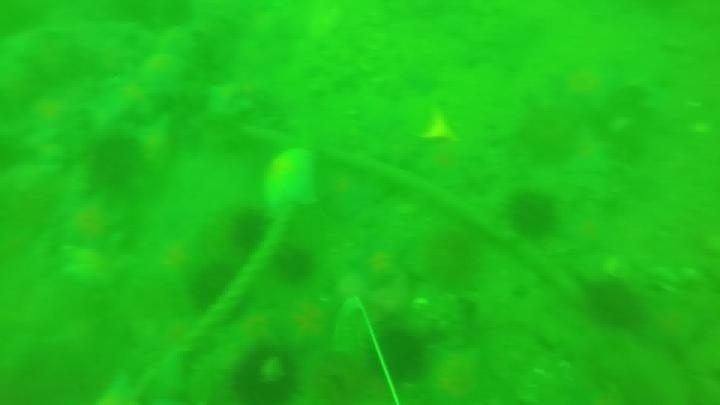echinus: (229, 346, 303, 404), (518, 106, 581, 165), (424, 231, 482, 292), (367, 328, 427, 384), (87, 135, 145, 191), (585, 279, 645, 331), (505, 190, 559, 240), (187, 262, 238, 313), (228, 208, 270, 254), (271, 244, 316, 285)
holothurian: (333, 143, 511, 242)
starfish: (407, 345, 501, 405), (546, 61, 625, 117), (268, 296, 340, 355), (142, 233, 212, 292), (90, 74, 167, 127), (260, 148, 322, 213), (57, 196, 125, 253), (349, 241, 406, 290), (560, 129, 617, 177), (24, 95, 78, 134), (137, 50, 189, 90)
